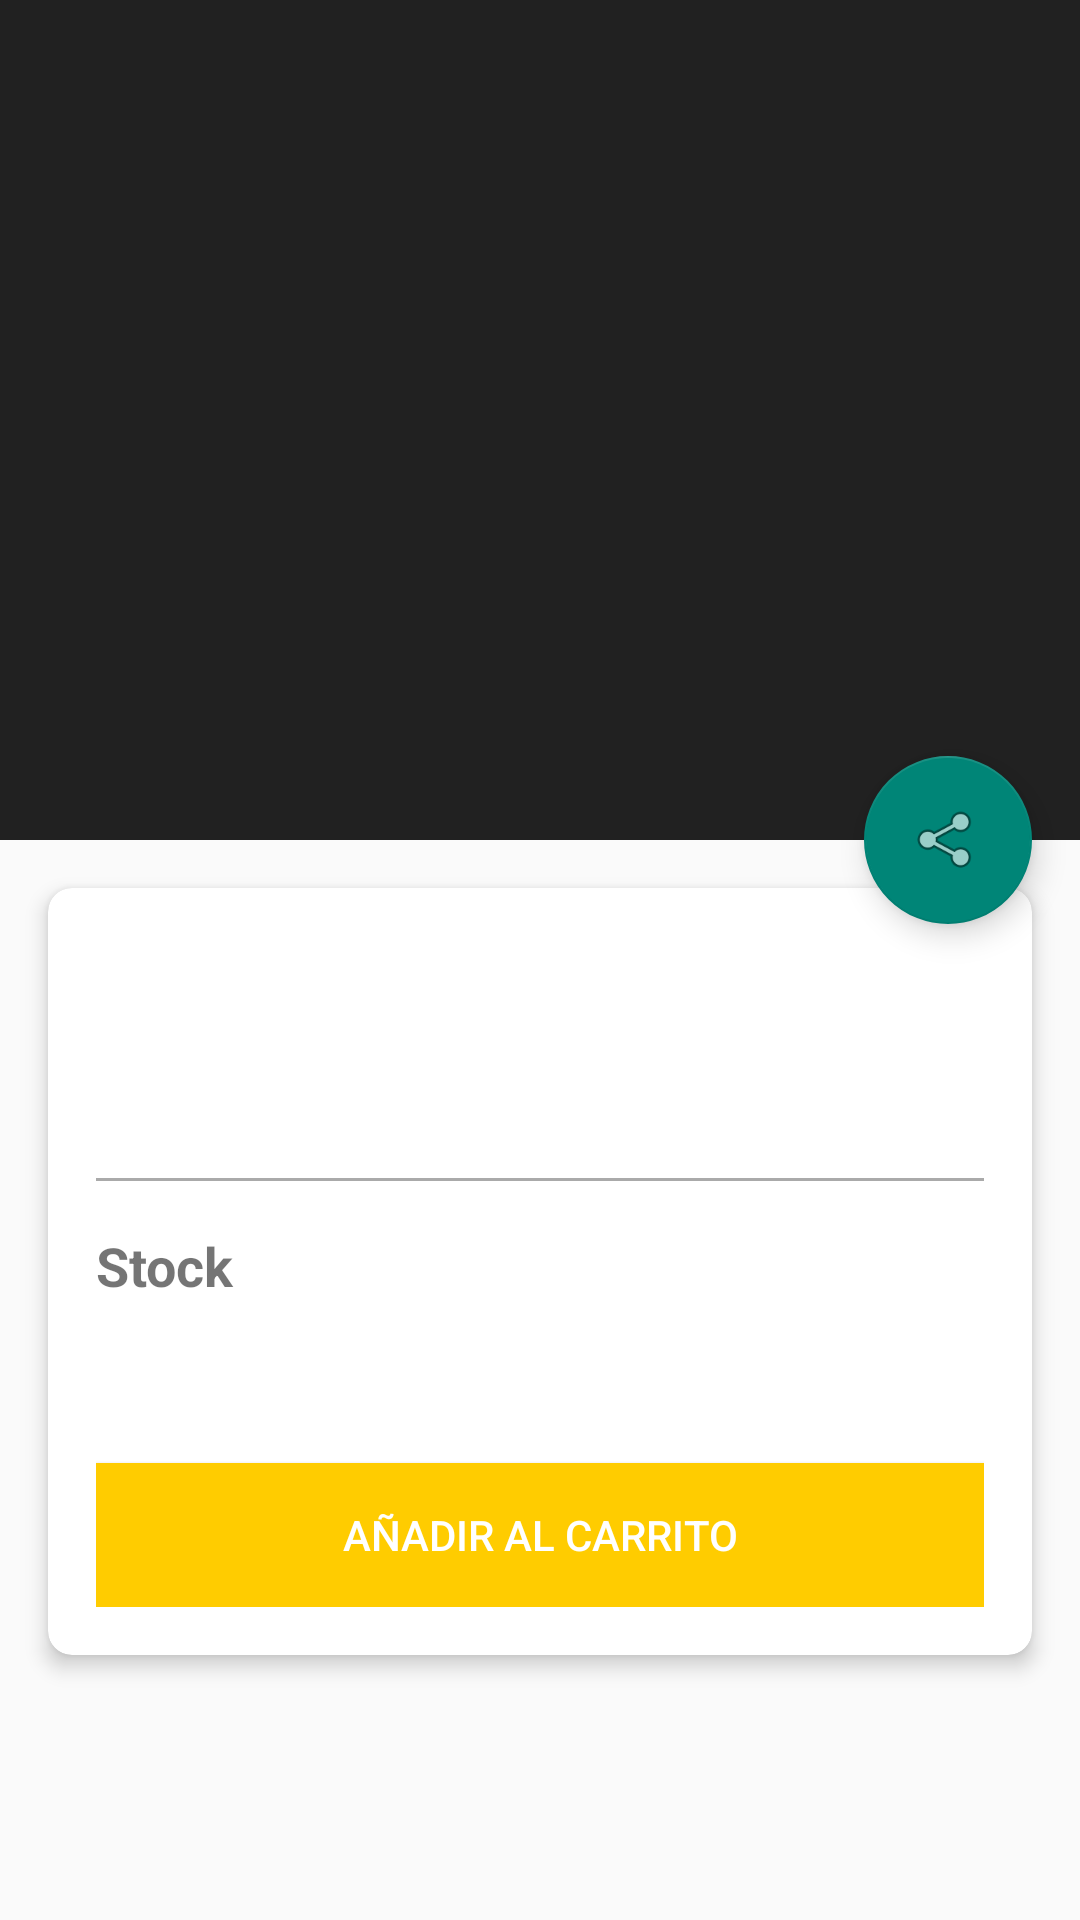

Named icons in this screenshot (1080px×1920px) and their centers, (x,y):
share: (948,840)
